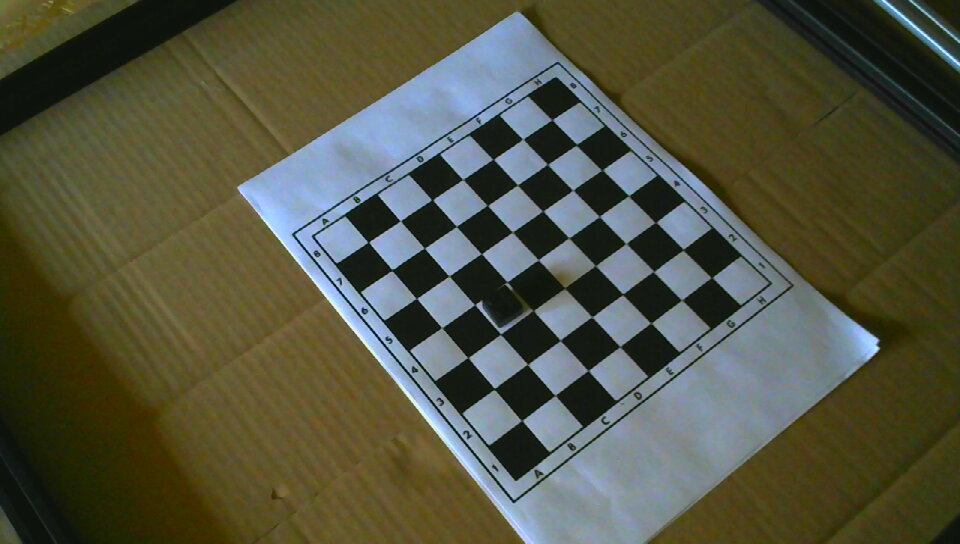bp: (482, 285, 524, 328)
